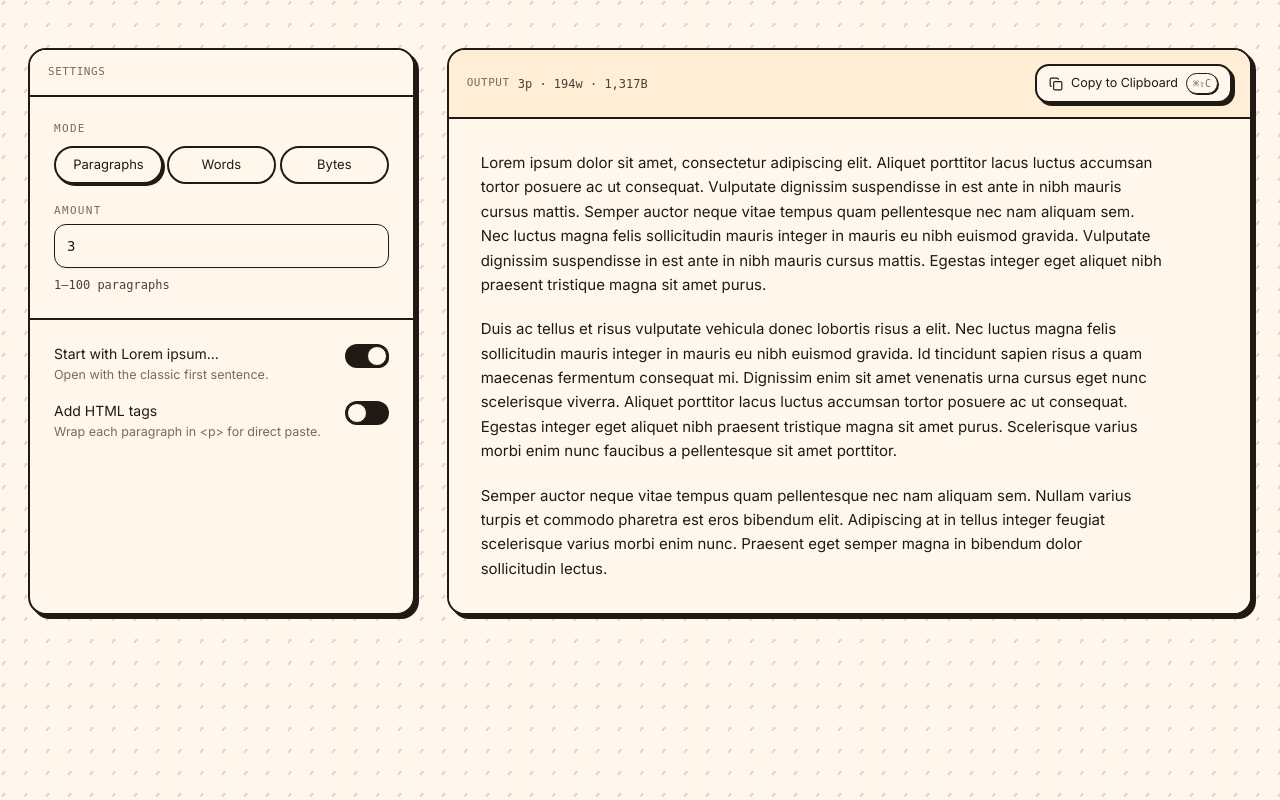
it: LoremIpsumRoute › switching to words mode updates amount default
The image size is (1280, 800).
Click the tab "Words" at (221, 165), box x1=167 y1=146 x2=276 y2=184
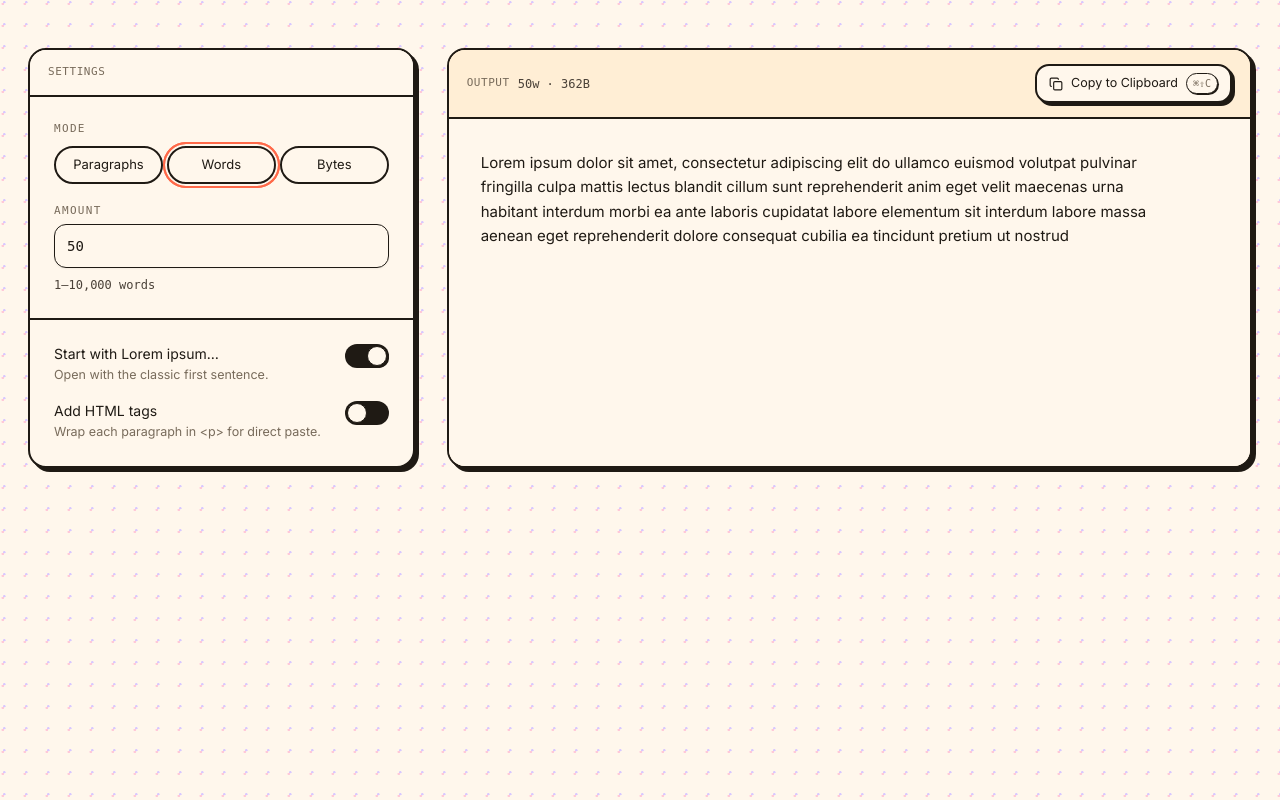
Result: the number field labelled "Amount" holds "50" at x1=54 y1=224 x2=389 y2=268
